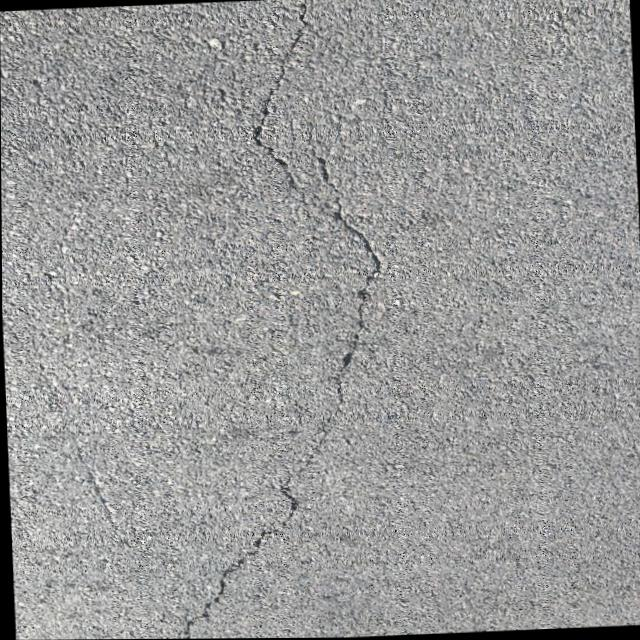Crack: (144, 0, 406, 639)
